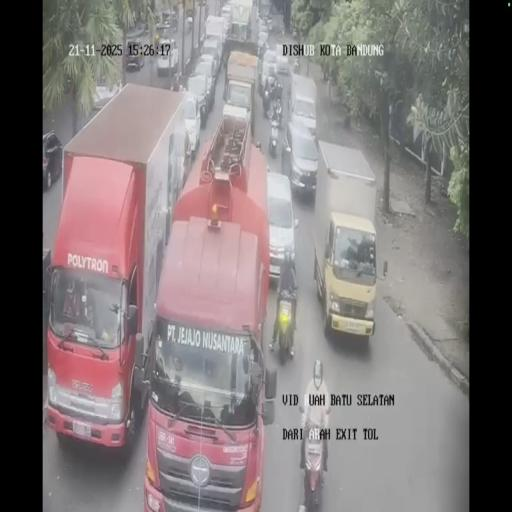car: (282, 120, 318, 199), (222, 81, 254, 135), (185, 72, 211, 131), (200, 36, 222, 77), (259, 49, 277, 95), (267, 14, 283, 34), (220, 3, 232, 29), (257, 29, 268, 56)
motorcycle: (270, 256, 298, 360), (267, 109, 281, 156), (293, 58, 299, 74)
truck: (46, 82, 193, 454), (258, 0, 272, 20)
